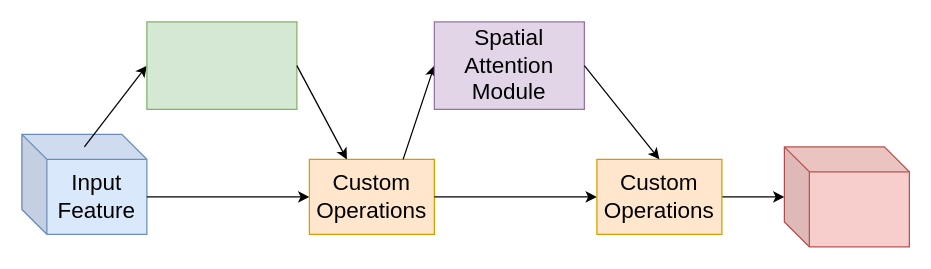
Some shapes in this 931 by 269 pixel diagram are drawn without their labels. The centre of each missing label's shape, as x and y in pixels:
"Channel Attention Module" belongs at (x=221, y=65).
"Output Feature" belongs at (x=846, y=196).
